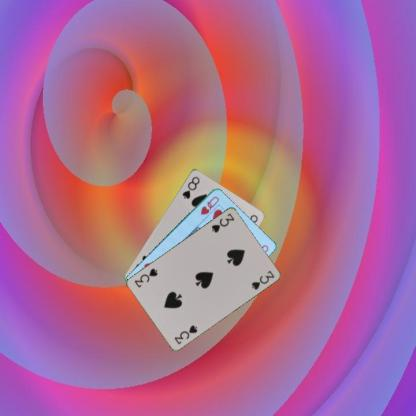3s: (208, 210, 236, 234), (172, 322, 198, 345)
8s: (180, 174, 201, 200)
Qh: (198, 193, 220, 216)
